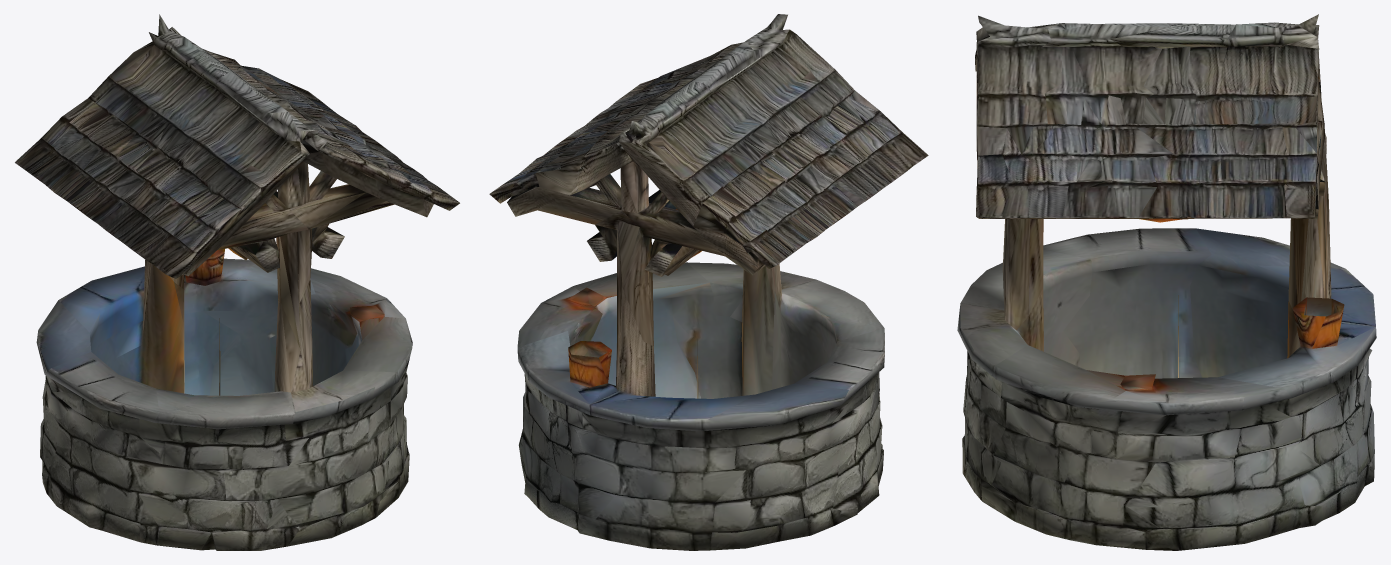
Rendered from stone-well.glb.
The picture shows the model from 3 angles, left to right: view 1: azimuth 30°, elevation 25°; view 2: azimuth 150°, elevation 25°; view 3: azimuth 270°, elevation 25°; orthographic projection. The views are drawn at different scales.
Visible parts, largest first — view 1: stone-well; view 2: stone-well; view 3: stone-well.
Part boxes in pixels (x1,y1,x2,y2): stone-well: (15, 14, 459, 550); stone-well: (489, 14, 928, 550); stone-well: (957, 14, 1376, 550).
Size of the model in its own units: 2.08 by 2.5 by 2.09.
Materials: 1 (1 with a texture image).
